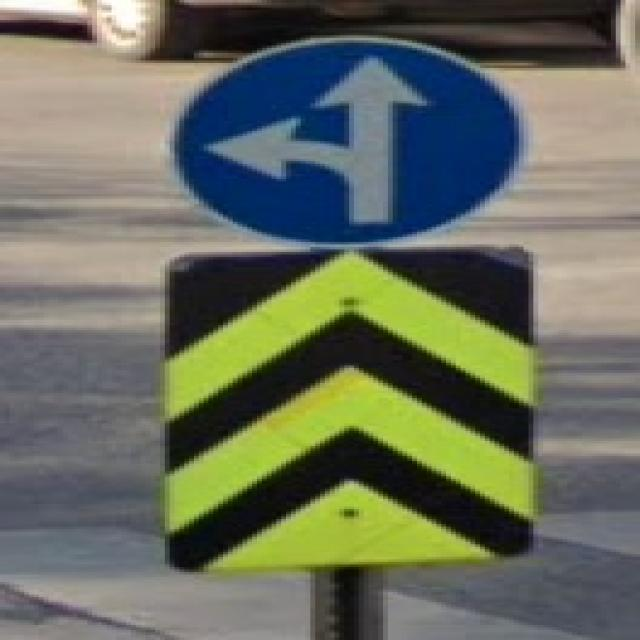Straight or Left: (168, 39, 522, 245)
